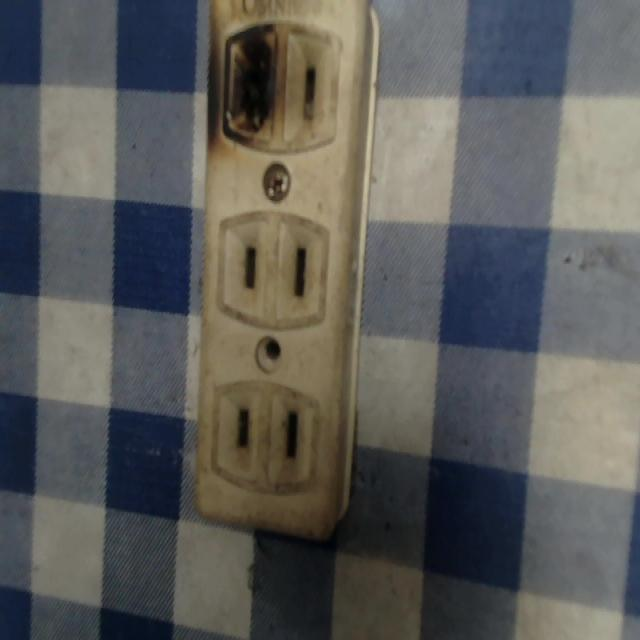-: (182, 15, 288, 156)
